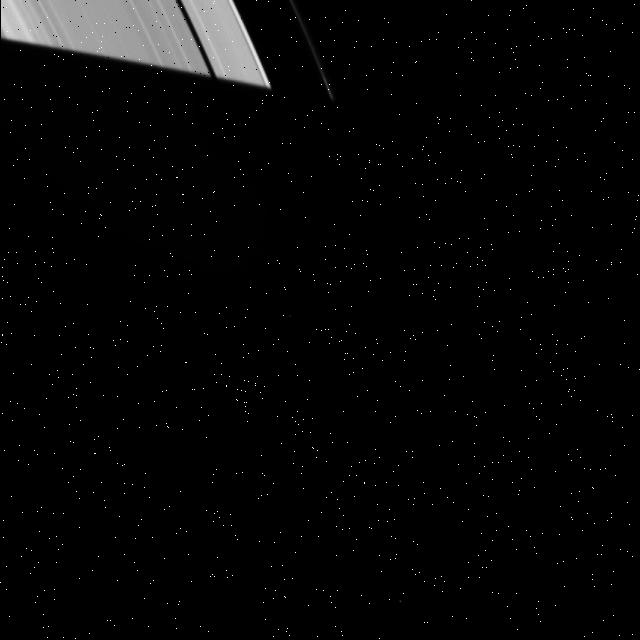Saturn: (0, 0, 338, 104)
